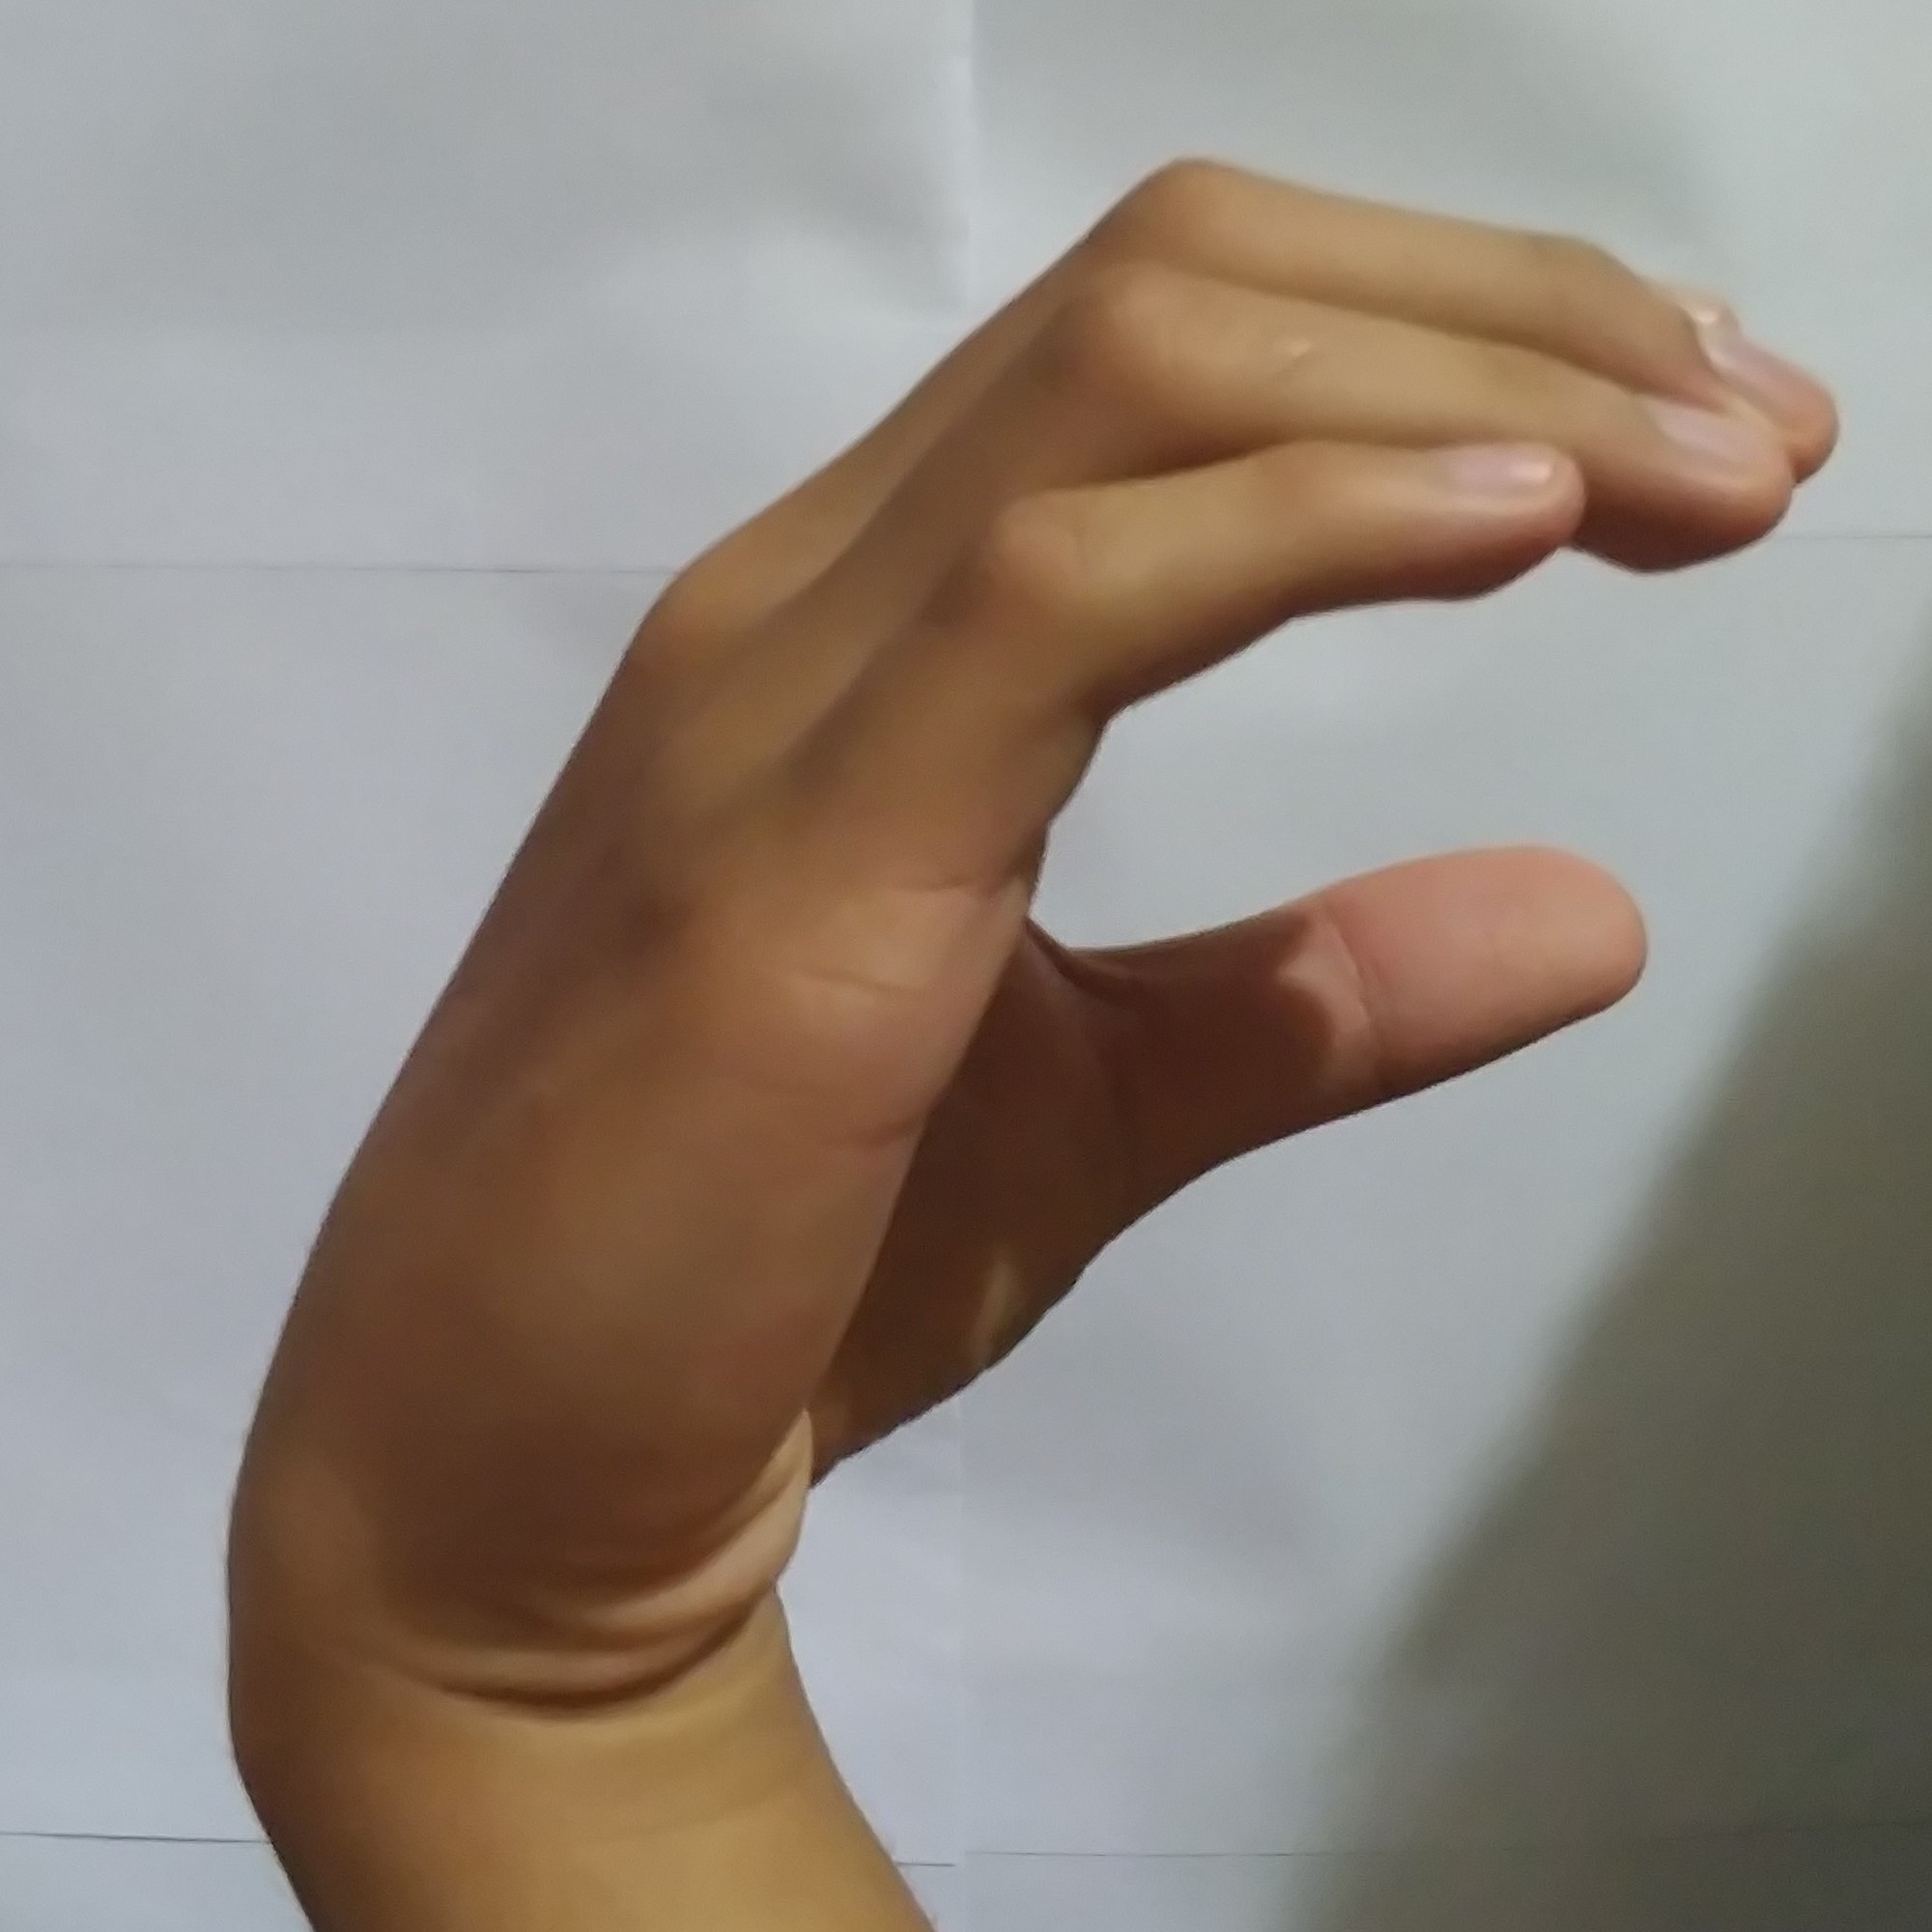C: (226, 140, 1856, 1610)
